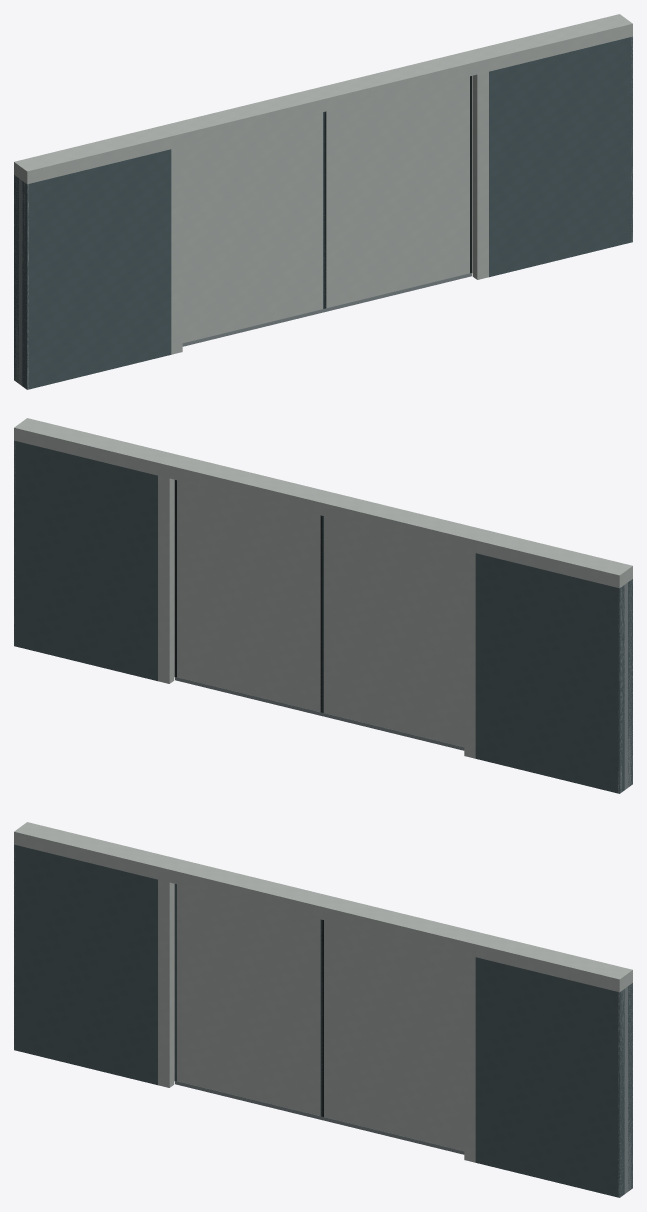
The model's file is AST-MED-G3-009.glb.
3 renders of one model, top to bottom at view 1: azimuth 30°, elevation 25°; view 2: azimuth 150°, elevation 25°; view 3: azimuth 330°, elevation 25°, orthographic.
Visible parts, largest first — view 1: PocketLeftBack, PocketRightBack, RIGHT_Panel, LEFT_Panel, FullFrameHeader, FrameRightBack, FrameLeftBack, PocketLeftEnd, PocketLeftFront, RIGHT_Base, LEFT_Base, LEFT_Meeting; view 2: PocketLeftFront, PocketRightFront, RIGHT_Panel, LEFT_Panel, FullFrameHeader, FrameRightFront, FrameLeftFront, PocketLeftEnd, PocketLeftBack, RIGHT_Base, LEFT_Base, LEFT_Meeting; view 3: PocketRightBack, PocketLeftBack, LEFT_Panel, RIGHT_Panel, FullFrameHeader, FrameLeftBack, FrameRightBack, PocketRightEnd, PocketRightFront, LEFT_Base, RIGHT_Base, LEFT_Meeting (+1 smaller).
Boxes of the visible parts, <box> form: PocketLeftBack: <box>22,149,171,389</box>; PocketRightBack: <box>489,36,632,277</box>; RIGHT_Panel: <box>326,76,469,307</box>; LEFT_Panel: <box>182,112,322,342</box>; FullFrameHeader: <box>14,14,632,184</box>; FrameRightBack: <box>472,55,488,279</box>; FrameLeftBack: <box>166,130,182,354</box>; PocketLeftEnd: <box>14,175,28,389</box>; PocketLeftFront: <box>14,175,18,382</box>; RIGHT_Base: <box>323,273,471,312</box>; LEFT_Base: <box>182,308,326,346</box>; LEFT_Meeting: <box>324,111,326,308</box>; PocketLeftFront: <box>475,553,624,793</box>; PocketRightFront: <box>14,440,157,681</box>; RIGHT_Panel: <box>177,480,320,711</box>; LEFT_Panel: <box>324,516,464,746</box>; FullFrameHeader: <box>14,418,632,588</box>; FrameRightFront: <box>158,459,174,683</box>; FrameLeftFront: <box>464,534,479,758</box>; PocketLeftEnd: <box>618,579,632,793</box>; PocketLeftBack: <box>628,579,632,785</box>; RIGHT_Base: <box>175,677,323,716</box>; LEFT_Base: <box>320,712,464,750</box>; LEFT_Meeting: <box>320,515,322,712</box>; PocketRightBack: <box>475,957,624,1197</box>; PocketLeftBack: <box>14,845,157,1085</box>; LEFT_Panel: <box>177,884,320,1115</box>; RIGHT_Panel: <box>324,920,464,1150</box>; FullFrameHeader: <box>14,822,632,992</box>; FrameLeftBack: <box>158,863,174,1087</box>; FrameRightBack: <box>464,938,479,1162</box>; PocketRightEnd: <box>618,983,632,1197</box>; PocketRightFront: <box>628,983,632,1191</box>; LEFT_Base: <box>175,1081,323,1120</box>; RIGHT_Base: <box>320,1116,464,1154</box>; LEFT_Meeting: <box>321,920,323,1116</box>.
Bounding box in the file's own units: 7.4 × 2.55 × 0.28.
Materials: 4 (4 with a texture image).
